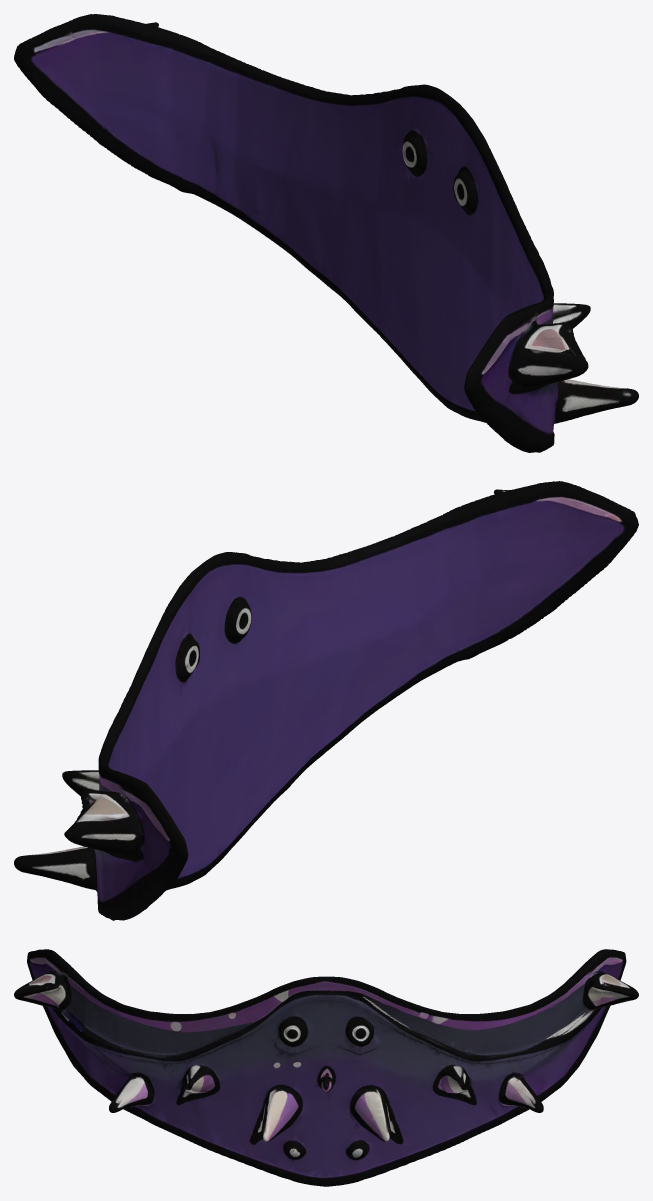
File: 11_004_Mask_Kimi-Mask.glb
3 views of the same model, one above another, from view 1: azimuth 30°, elevation 25°; view 2: azimuth 150°, elevation 25°; view 3: azimuth 270°, elevation 25° (orthographic). The views are drawn at different scales.
Visible parts, largest first — view 1: tripo_node_55f868bc-7382-4eb5-a089-7254f0bf951f; view 2: tripo_node_55f868bc-7382-4eb5-a089-7254f0bf951f; view 3: tripo_node_55f868bc-7382-4eb5-a089-7254f0bf951f.
Part boxes in pixels (x1,y1,x2,y2): tripo_node_55f868bc-7382-4eb5-a089-7254f0bf951f: [14, 14, 638, 452]; tripo_node_55f868bc-7382-4eb5-a089-7254f0bf951f: [14, 481, 638, 920]; tripo_node_55f868bc-7382-4eb5-a089-7254f0bf951f: [14, 949, 638, 1186].
Size of the model in its own units: 0.3413 by 0.3693 by 1.
Materials: 1 (1 with a texture image).
